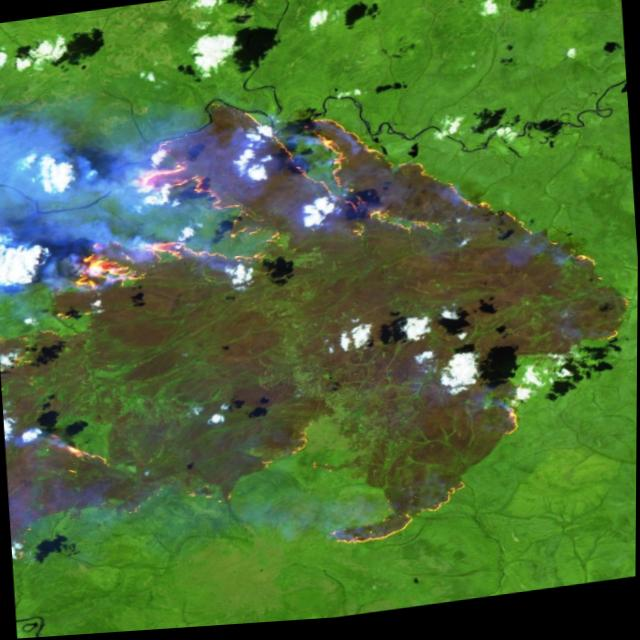fire: (0, 46, 640, 603)
